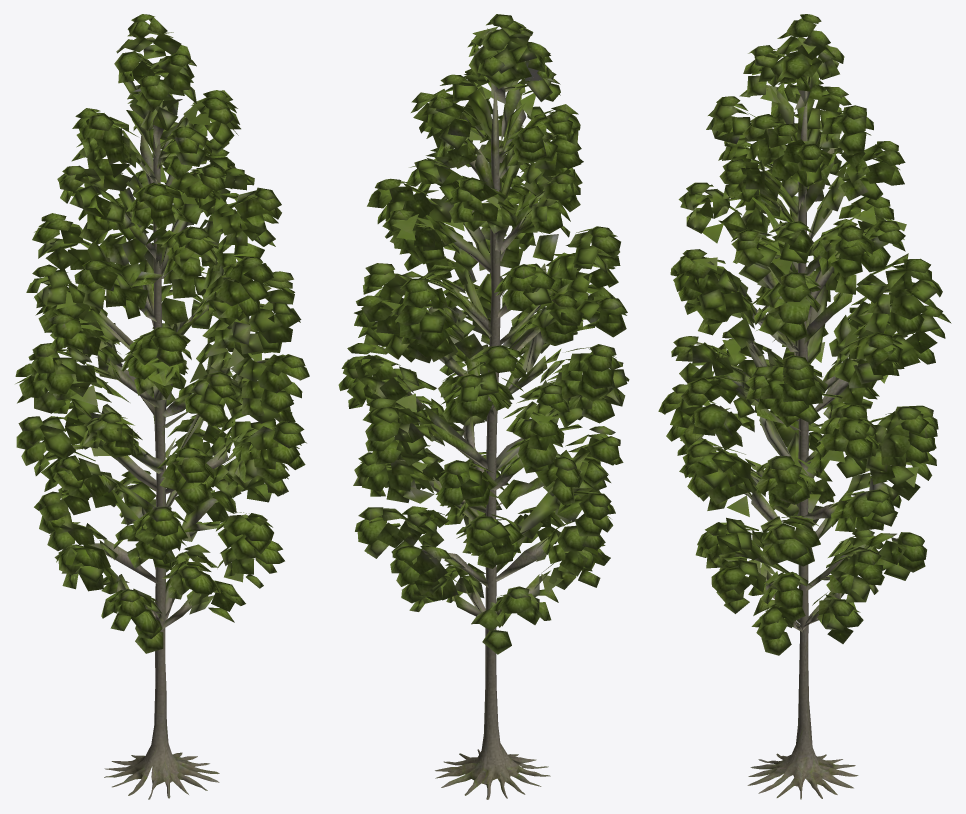
File: roadside-tree.glb
3 views of the same model, side by side, from view 1: azimuth 30°, elevation 25°; view 2: azimuth 150°, elevation 25°; view 3: azimuth 270°, elevation 25° (orthographic).
Bounding box in the file's own units: 0.3537 × 1 × 0.3526.
1 material, 1 textured.
